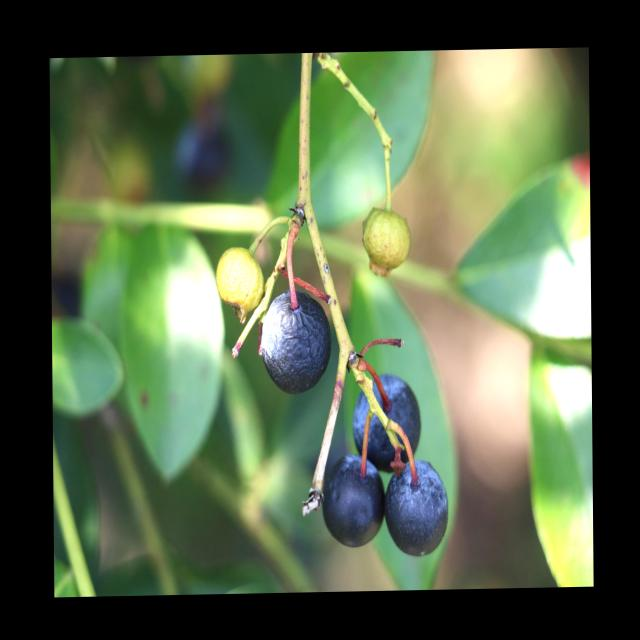blueberry: (255, 283, 335, 400), (350, 364, 429, 482), (379, 455, 454, 562), (315, 449, 391, 552)
blueberry-unripe: (215, 246, 266, 315), (359, 206, 411, 272)
